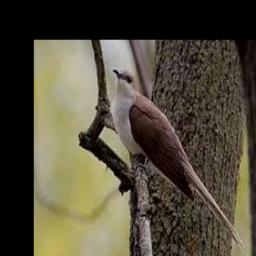Cuckoo: (112, 69, 246, 251)
